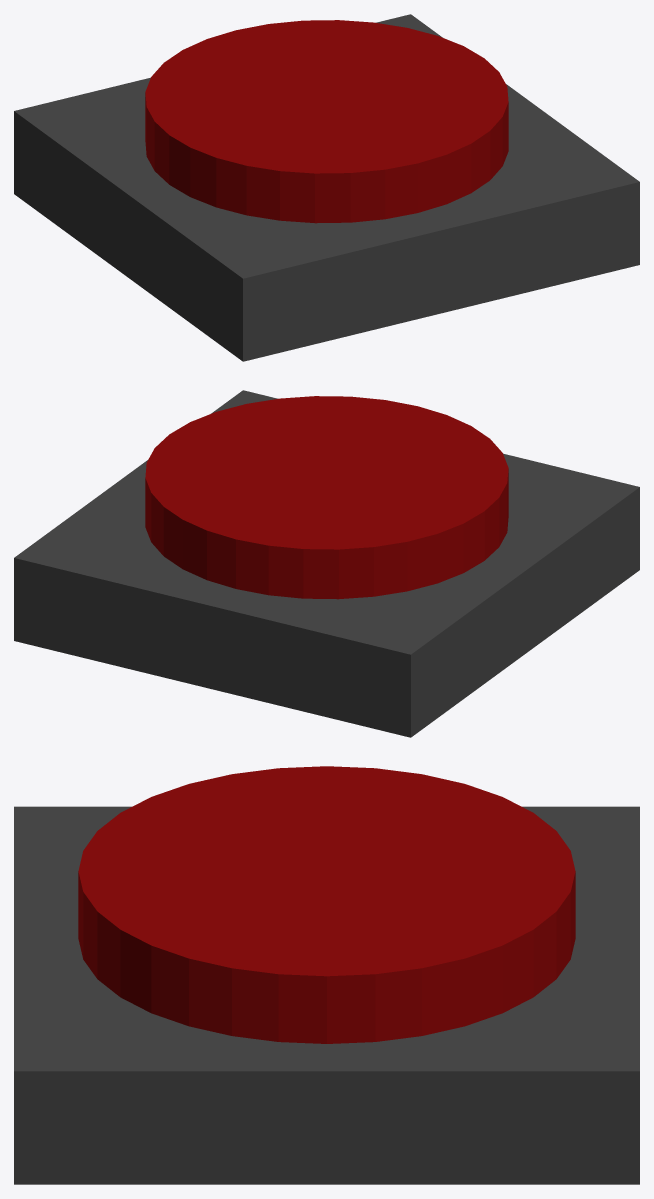
Rendered from Button.fbx.
3 views of the same model, one above another, from view 1: azimuth 30°, elevation 25°; view 2: azimuth 150°, elevation 25°; view 3: azimuth 270°, elevation 25° (orthographic). The views are drawn at different scales.
Visible parts, largest first — view 1: Cube, Cylinder; view 2: Cube, Cylinder; view 3: Cube, Cylinder.
Part boxes in pixels (x1,y1,x2,y2): Cube: [14, 14, 639, 361]; Cylinder: [145, 20, 508, 223]; Cube: [14, 390, 639, 737]; Cylinder: [145, 396, 508, 599]; Cube: [14, 806, 639, 1184]; Cylinder: [78, 766, 575, 1043].
Bounding box in the file's own units: 200 × 63.9 × 200.
